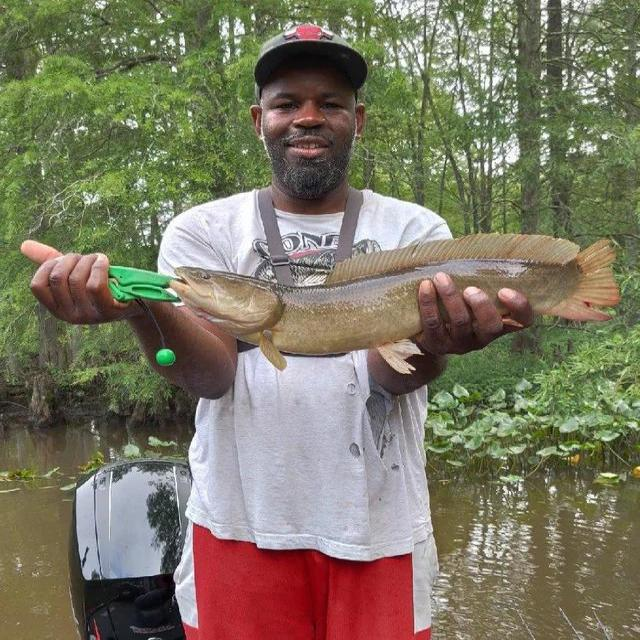Bowfin: (109, 235, 618, 373)
